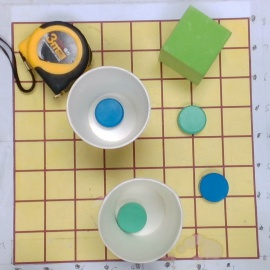blue: (66, 65, 152, 152), (200, 173, 229, 202)
green: (98, 173, 184, 263), (177, 106, 207, 134)
